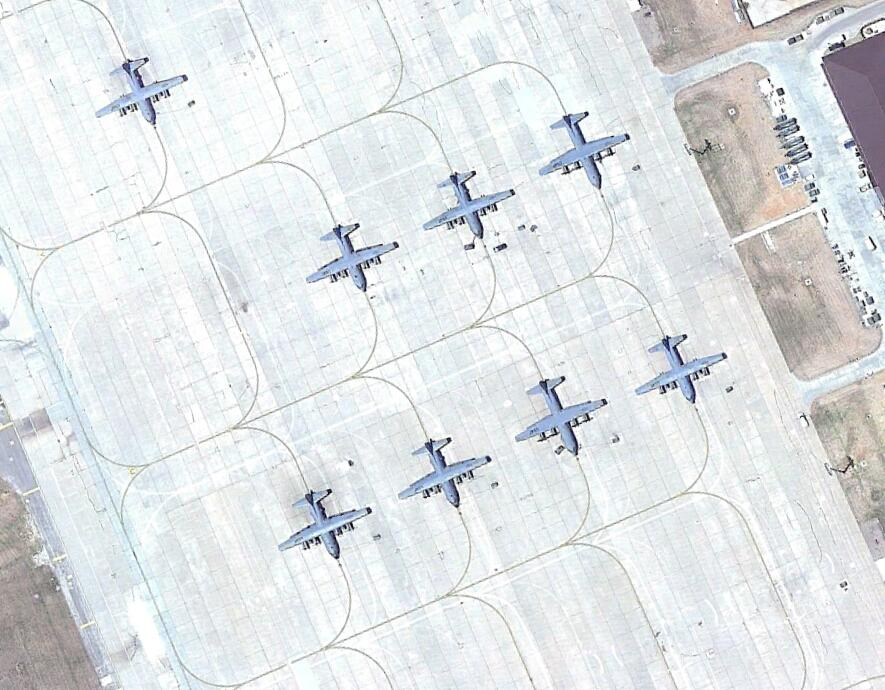A2: (535, 107, 636, 191), (513, 375, 612, 460), (396, 436, 494, 514), (274, 488, 373, 563), (634, 333, 729, 411), (421, 170, 516, 246), (97, 56, 190, 132), (308, 224, 401, 294)
